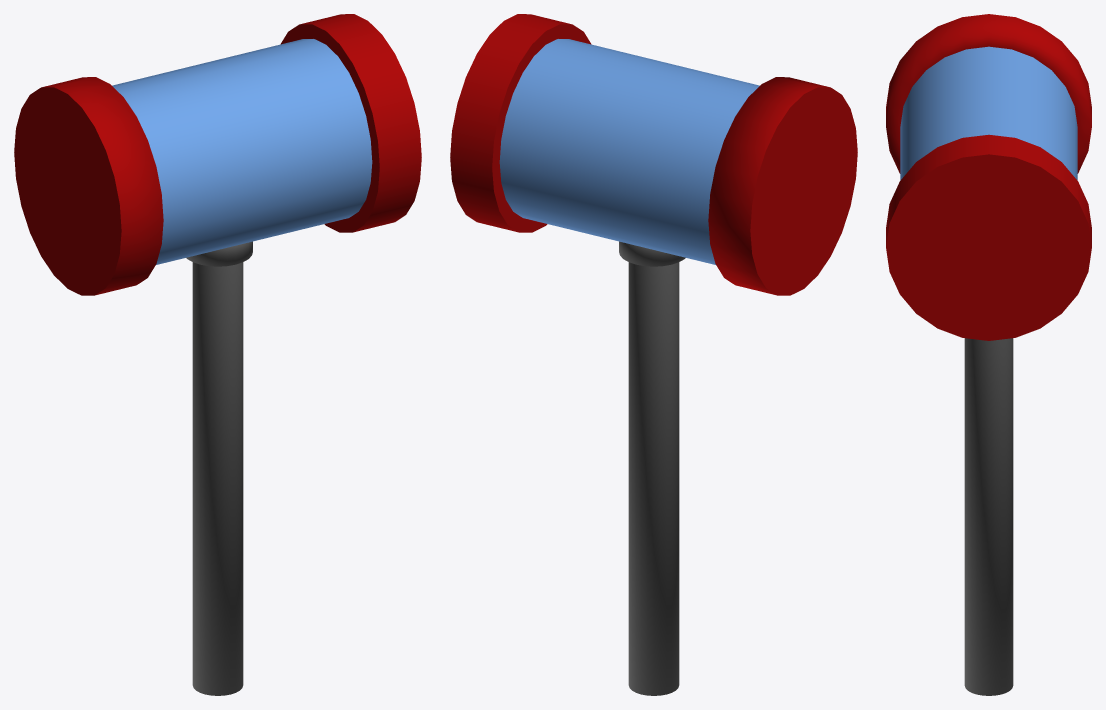
File: Hammer.fbx
The picture shows the model from 3 angles, left to right: view 1: azimuth 30°, elevation 25°; view 2: azimuth 150°, elevation 25°; view 3: azimuth 270°, elevation 25°; orthographic projection. The views are drawn at different scales.
Visible parts, largest first — view 1: Hammer; view 2: Hammer; view 3: Hammer.
Boxes of the visible parts, x1,y1,x2,y2 form: Hammer: (14, 14, 421, 695); Hammer: (450, 14, 857, 695); Hammer: (886, 14, 1091, 695).
Size of the model in its own units: 1.61 by 0.9979 by 3.22.
